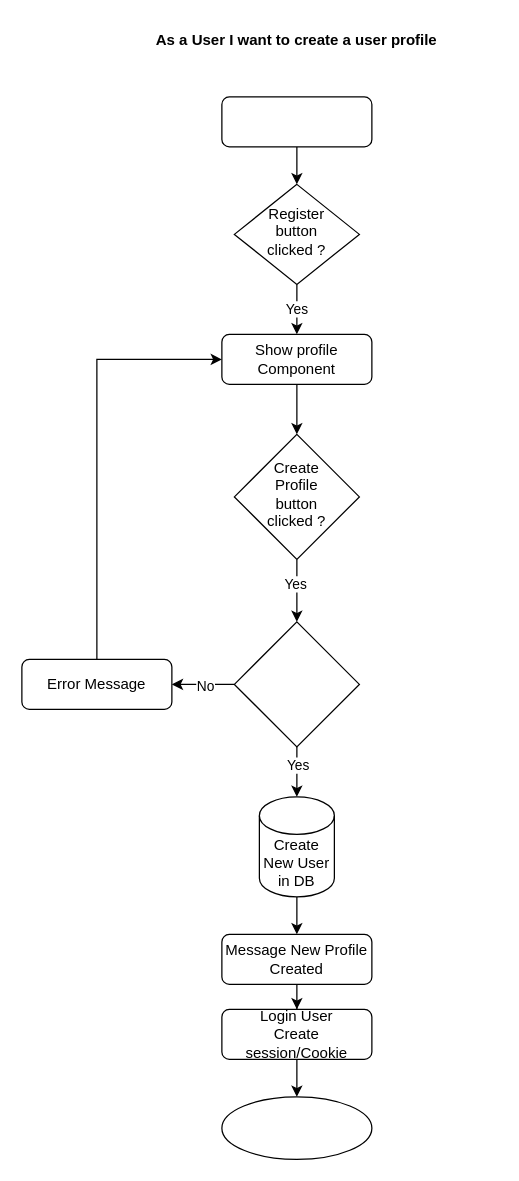
Image size: 519x1181. Some labels were removed from this diagram. The shapes that lost their labels are listed below. From the top down, each one's centre as x and y in pixels, then its label:
At point 296,121: "Welcome Screen".
At point 296,684: "All Fields entered Checked and OK?".
At point 296,1127: "Go to Show All movies component".
